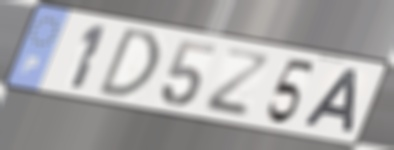1: (72, 24, 108, 93)
5: (159, 37, 219, 108), (264, 56, 318, 124)
A: (299, 66, 363, 136)
D: (94, 26, 162, 100)
Z: (200, 45, 273, 120)
